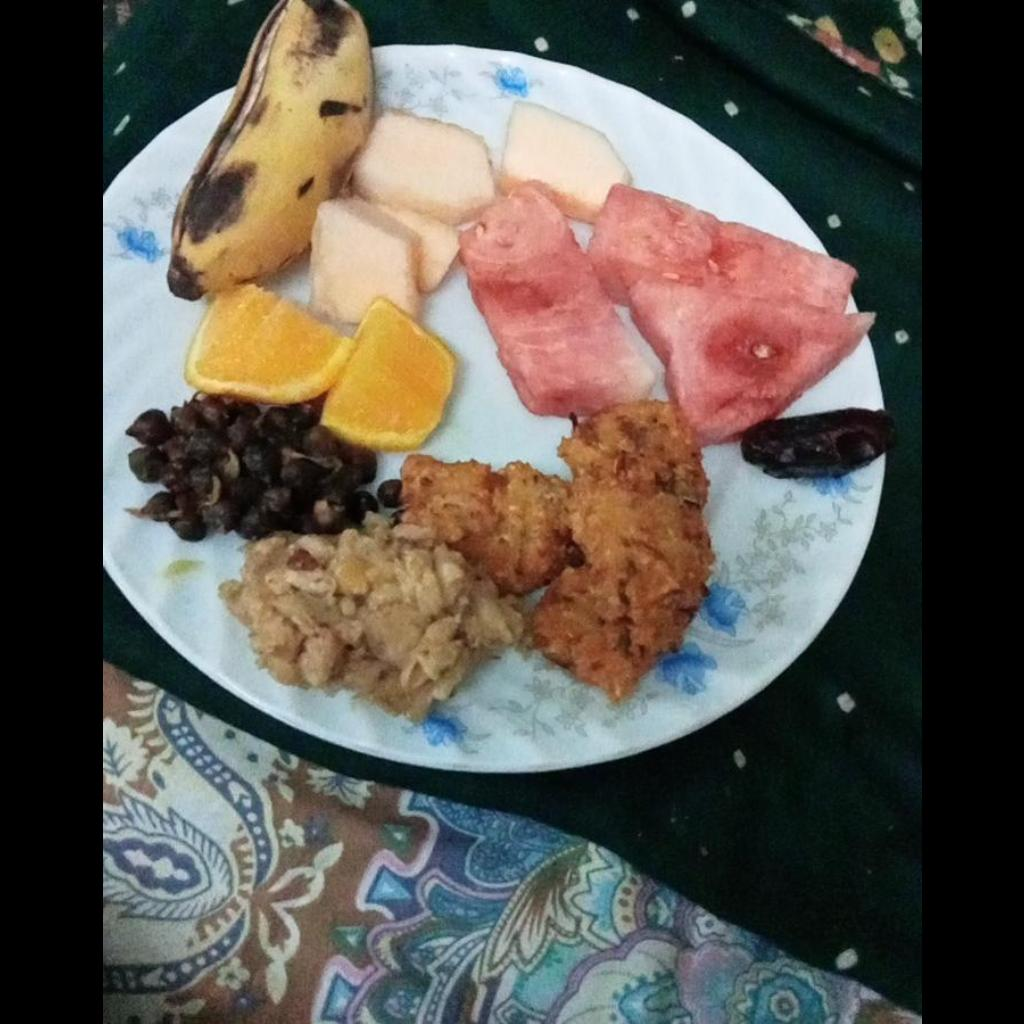banana: (159, 7, 370, 288)
chola: (129, 398, 400, 535)
daal: (221, 514, 526, 719)
dates: (746, 403, 896, 488)
orange: (185, 290, 456, 442)
peyaju: (408, 401, 715, 705)
watermelon: (460, 192, 874, 441), (307, 97, 626, 306)
